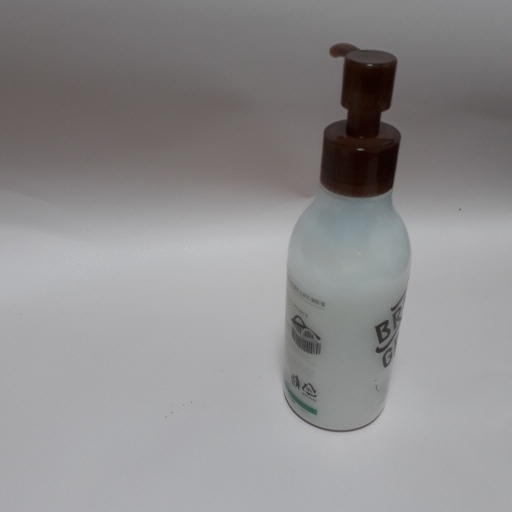Plastic_3: (281, 43, 416, 436)
